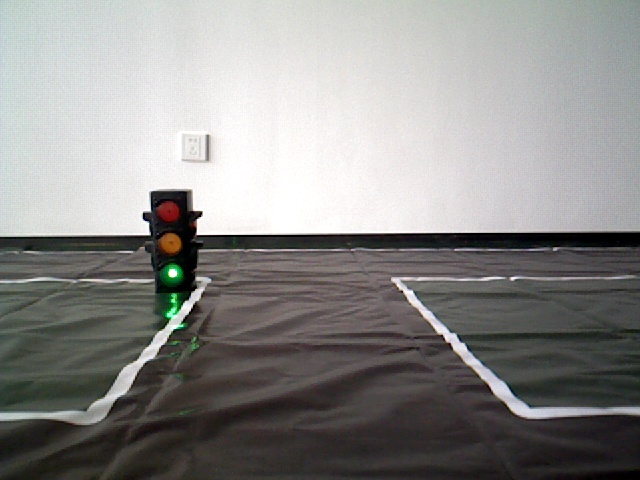green: (152, 194, 192, 284)
